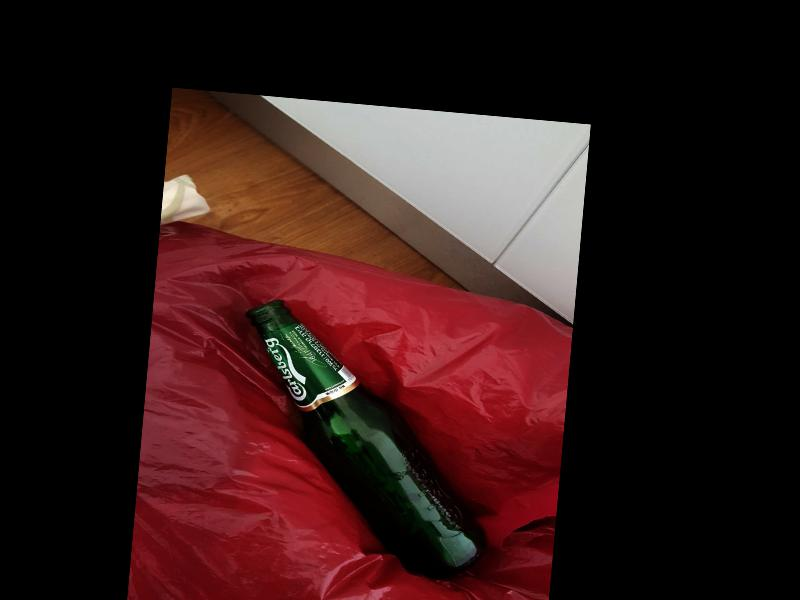Beer: (223, 297, 502, 581)
